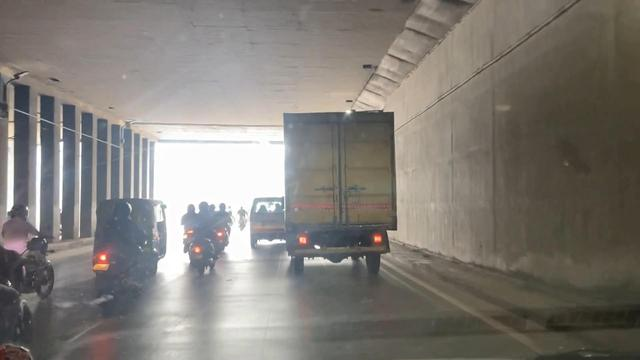HMV: (281, 110, 395, 272)
LMV: (99, 198, 148, 295), (187, 200, 221, 267), (253, 198, 280, 247)
